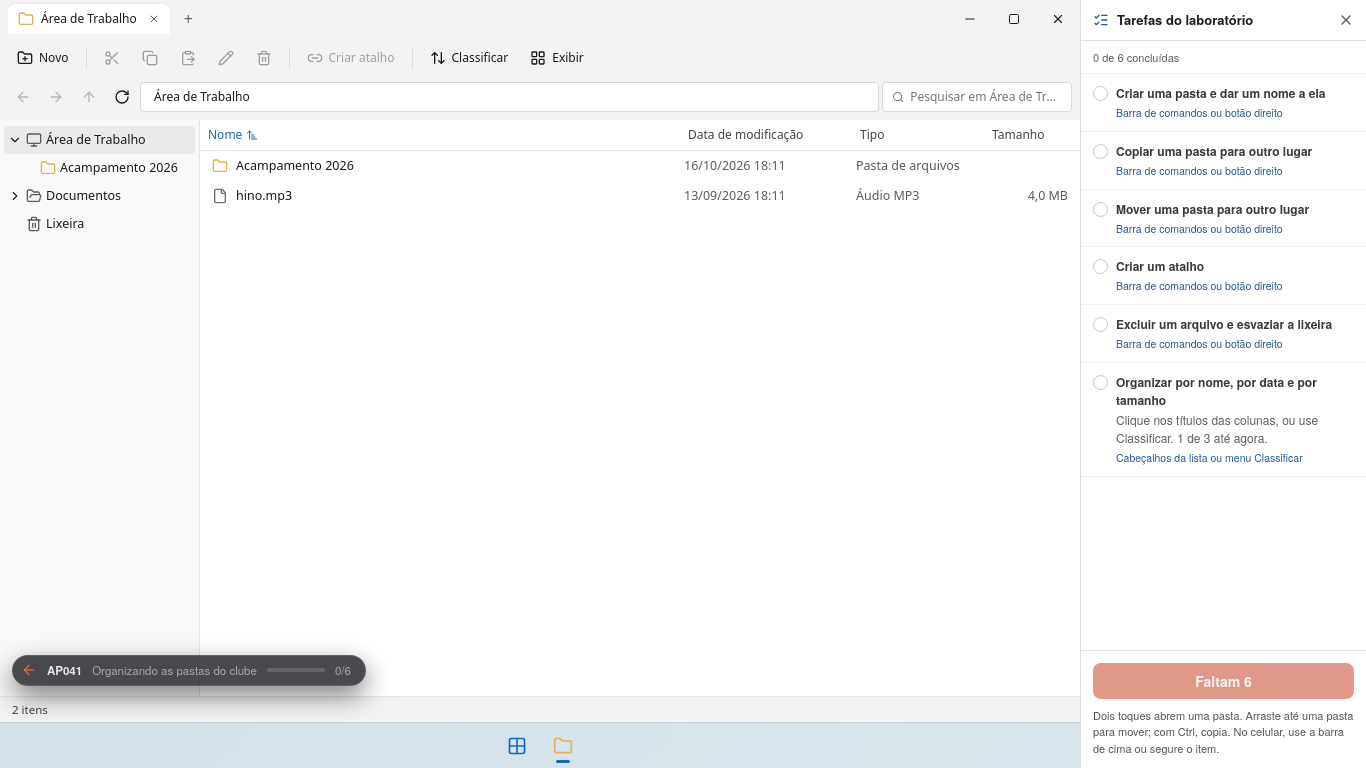
Test case: a janela do Explorador › abre o menu do botão direito sobre um item
The width and height of the screenshot is (1366, 768).
Right-click the 1st element with class "win-linha" at coordinates (295, 166), box [204, 152, 1076, 181]
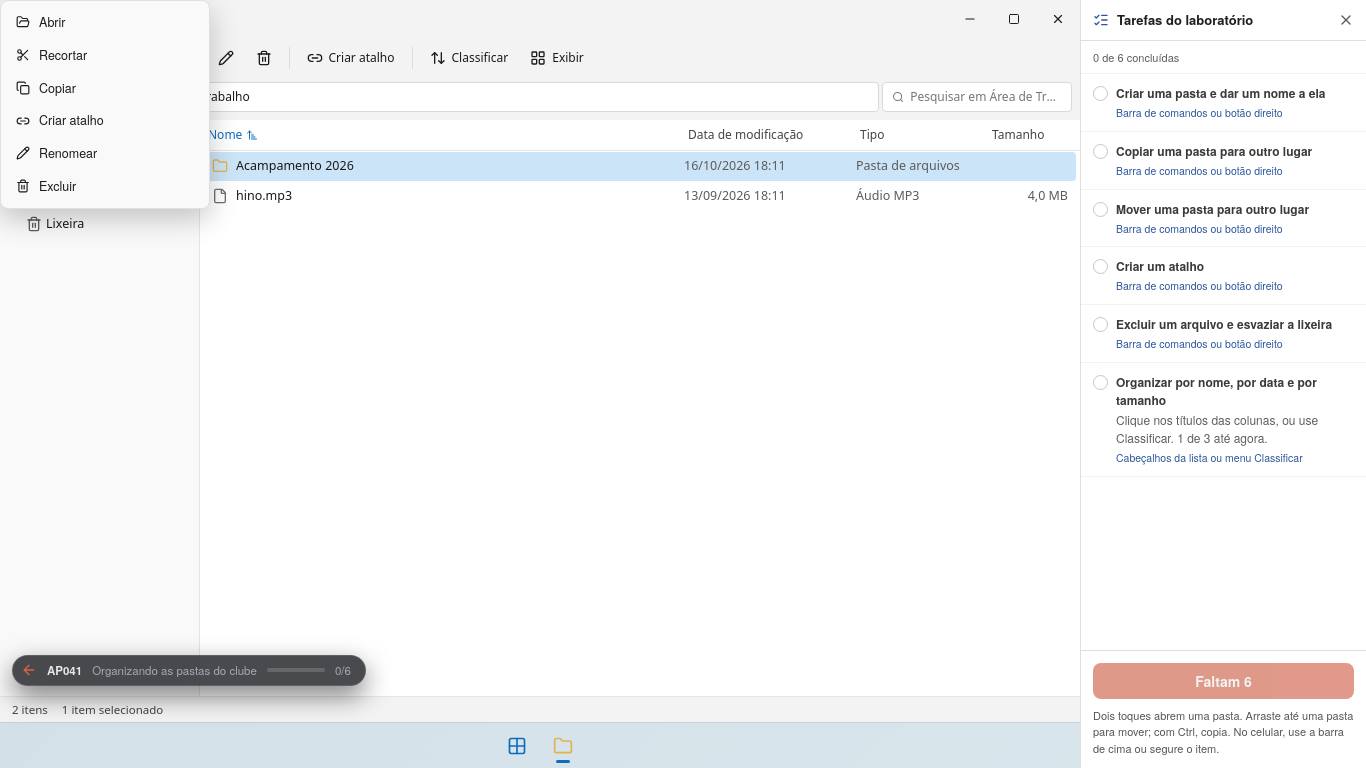
Expected: the element with class "win-menu" is shown, [0, 0, 210, 208]
